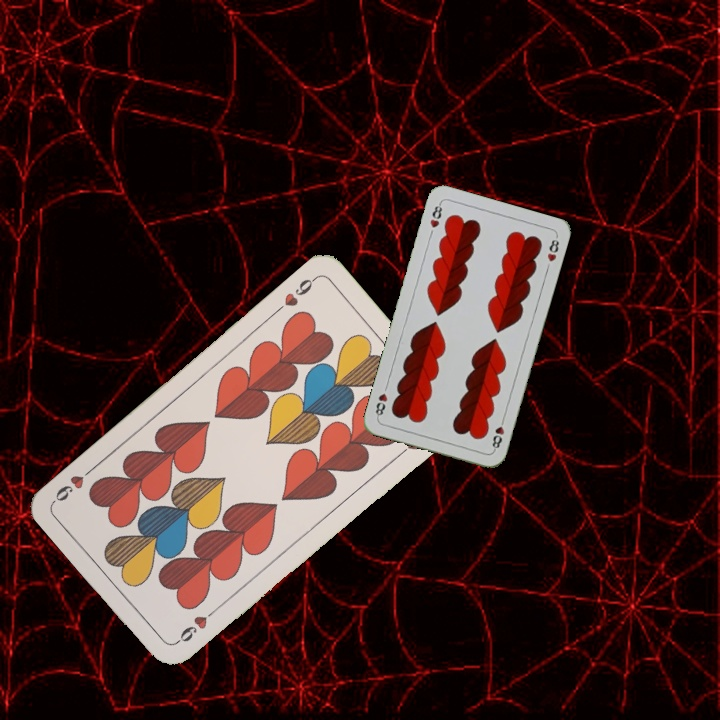H8: (488, 414, 507, 453), (426, 199, 445, 231)
H9: (271, 272, 320, 316), (172, 603, 221, 646)
